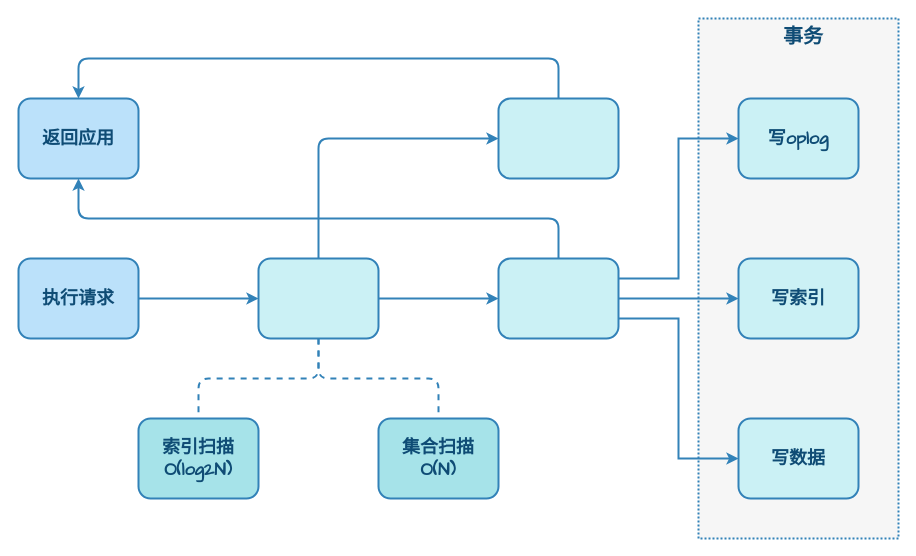
Some shapes in this 916 by 556 pixel diagram are drawn without their labels. Here are the shapes that lost their labels. From the top down, the centre of each, then its label:
At (558,138): "写Journal".
At (318,298): "定位数据".
At (558,298): "写缓存".
